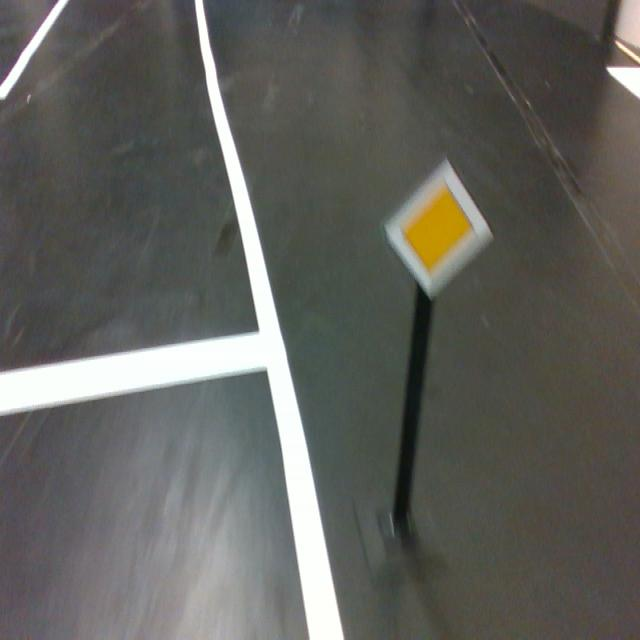priority-sign: (382, 157, 495, 303)
